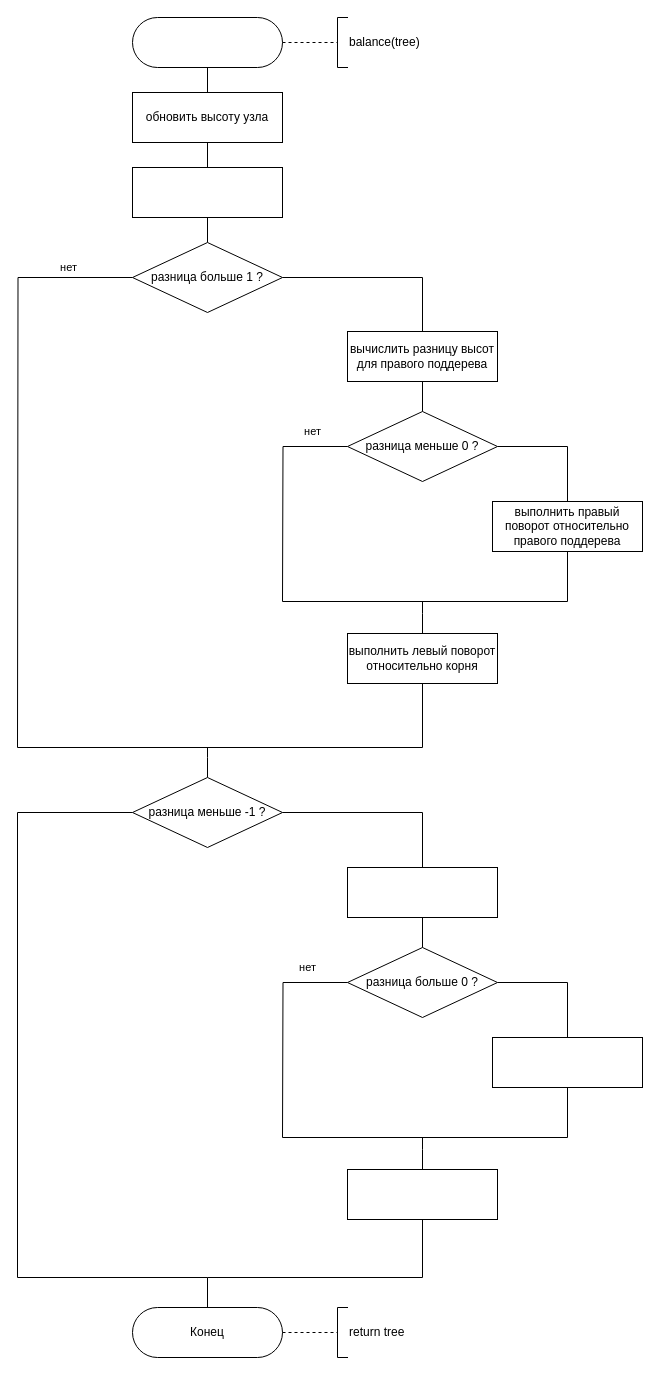
Image size: 660x1375. Some labels were removed from this diagram. Each missing label, with the centre of its shape:
выполнить левый поворот относительно левого поддерева: point (567, 1062)
выполнить правый поворот относительно корня: point (422, 1194)
вычислить разницу высот для левого поддерева: point (422, 892)
вычислить разницу высот правого и левого поддеревьев: point (207, 192)
Начало: point (207, 42)
